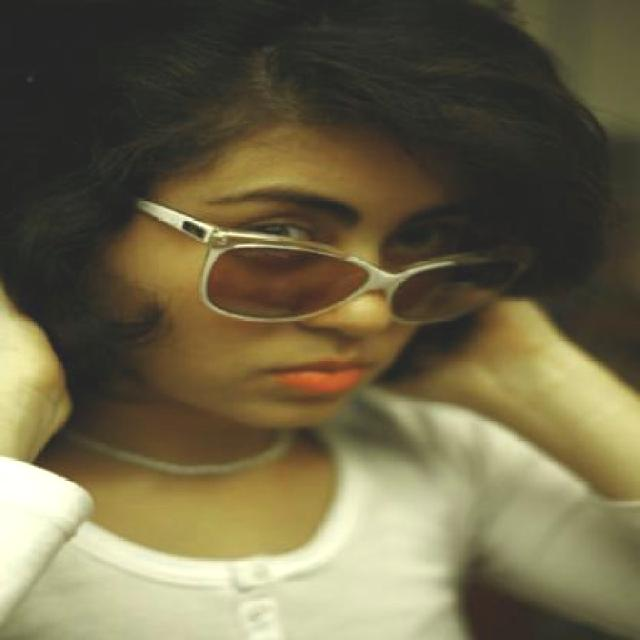face_nomask: (232, 214, 453, 400)
glasses: (143, 176, 512, 324)
